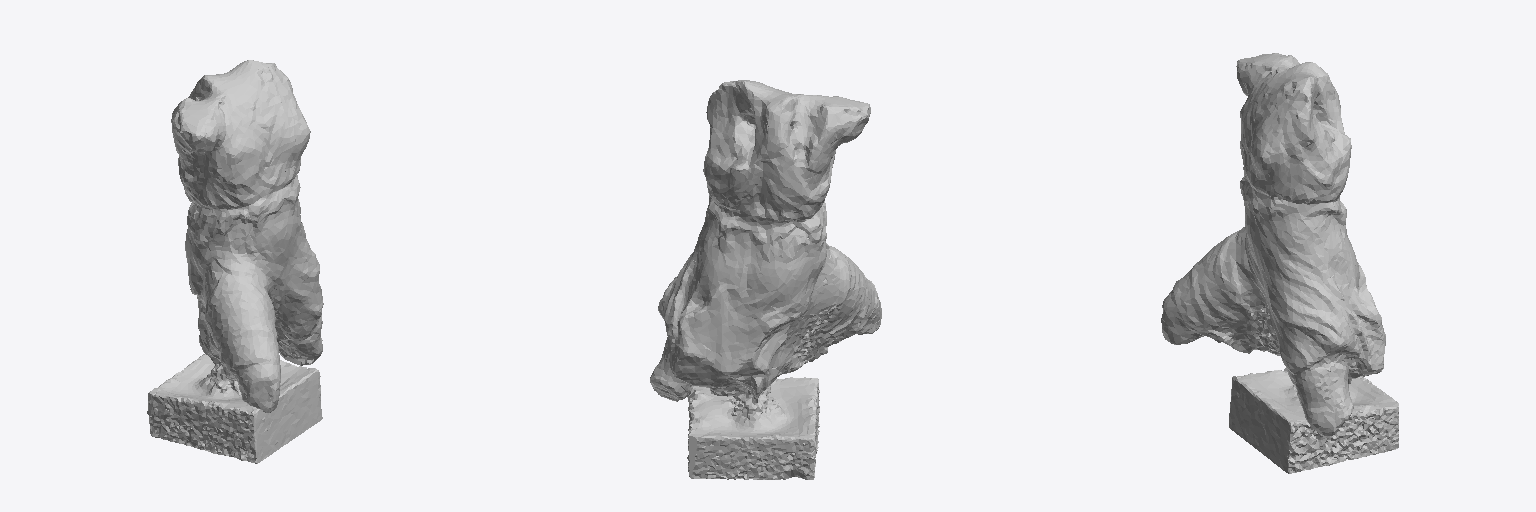
File: orando.obj
The picture shows the model from 3 angles: view 1: azimuth 30°, elevation 25°; view 2: azimuth 150°, elevation 25°; view 3: azimuth 270°, elevation 25°; orthographic projection.
Visible parts, largest first — view 1: Object_3; view 2: Object_3; view 3: Object_3.
Part boxes in pixels (left/top/right/bottom): Object_3: left=147, top=60, right=323, bottom=463; Object_3: left=650, top=80, right=881, bottom=479; Object_3: left=1161, top=53, right=1398, bottom=473.
Size of the model in its own units: 2.34 by 4.66 by 2.73.